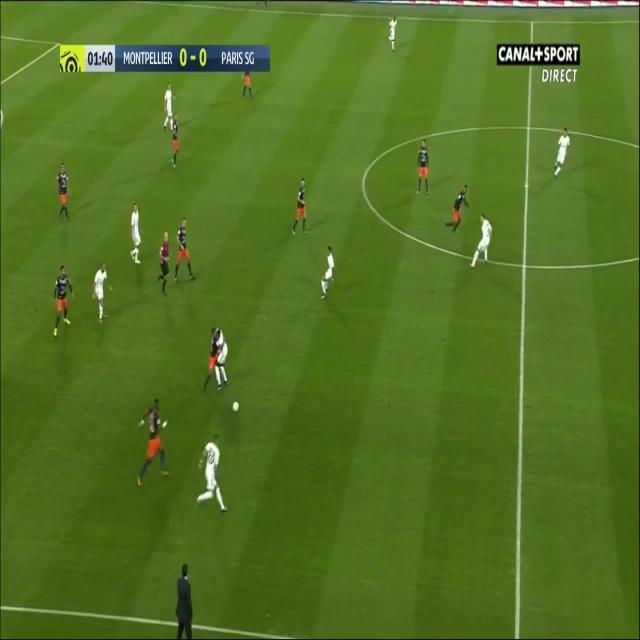Ball: (229, 396, 241, 414)
Player: (134, 396, 171, 492), (192, 431, 230, 517), (51, 262, 78, 342), (467, 211, 495, 275), (172, 215, 196, 288), (442, 178, 471, 238), (91, 260, 113, 326), (549, 127, 574, 180), (290, 176, 309, 240), (318, 242, 338, 300), (414, 137, 432, 200), (128, 202, 145, 267), (217, 326, 232, 396), (56, 161, 72, 224), (203, 325, 218, 390), (160, 81, 178, 132), (170, 111, 180, 173), (386, 14, 399, 56), (239, 71, 256, 100)
Referee: (155, 227, 173, 297)
